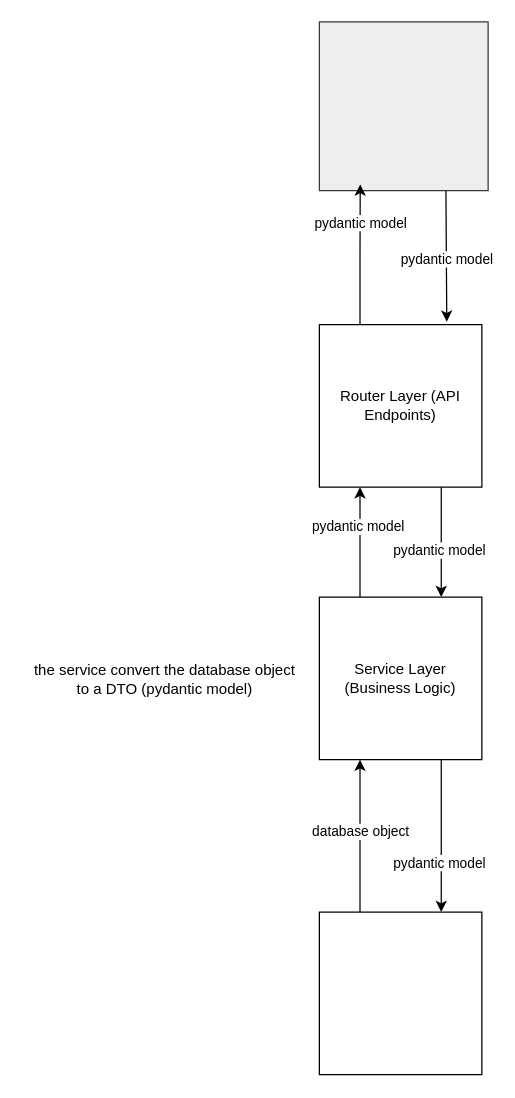
This 515x1098 diagram has some shape labels left out. The centre of each missing label's shape, as x and y in pixels:
"client / browser" goes at pixel 403 106.
"Database / Repository Layer" goes at pixel 400 993.
